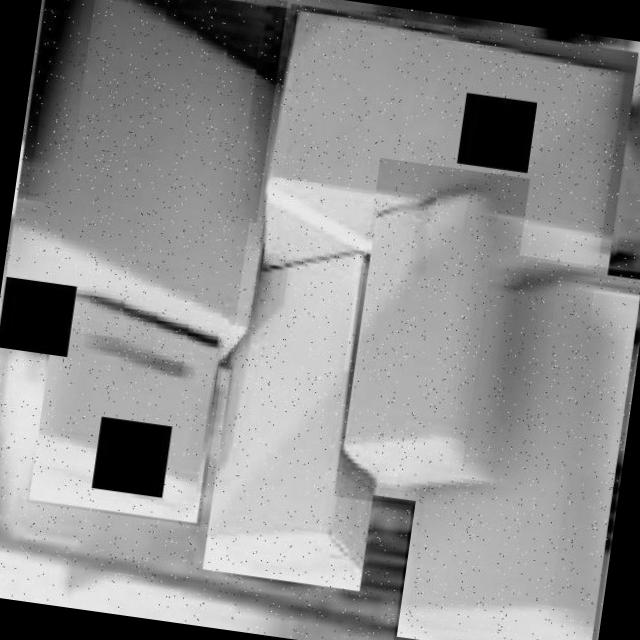box: (251, 0, 640, 307), (0, 0, 303, 375), (393, 246, 640, 640), (200, 221, 412, 596), (333, 158, 530, 516), (26, 283, 231, 526)
